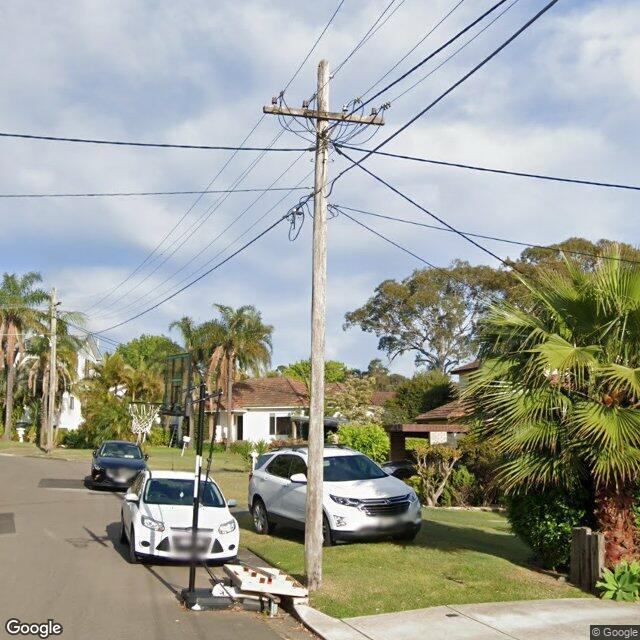crossarm: (262, 104, 386, 126)
timber-pole: (304, 60, 331, 591), (48, 286, 56, 449)
